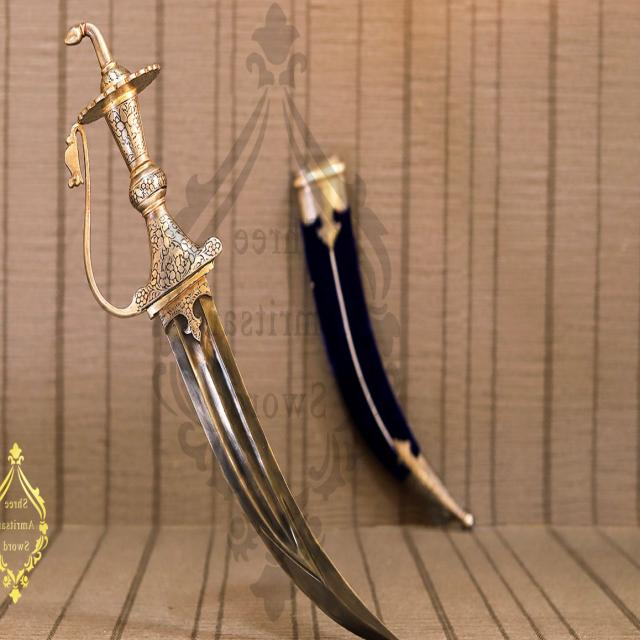Gun: (65, 34, 408, 640)
